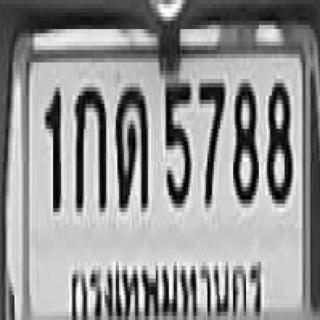A01: (74, 83, 105, 208)
A20: (114, 85, 146, 206)
N01: (44, 83, 60, 208)
N05: (164, 79, 190, 204)
N07: (198, 79, 224, 204)
N08: (232, 79, 257, 200), (265, 79, 290, 200)
P04: (66, 250, 268, 320)
